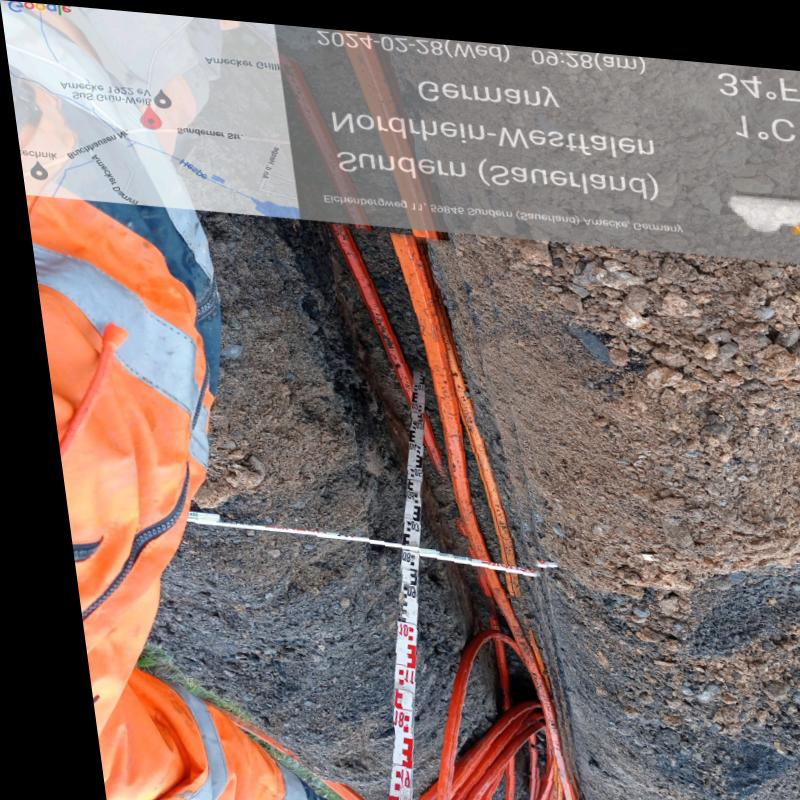Orang-Speednetrohrchen: (330, 220, 557, 800)
